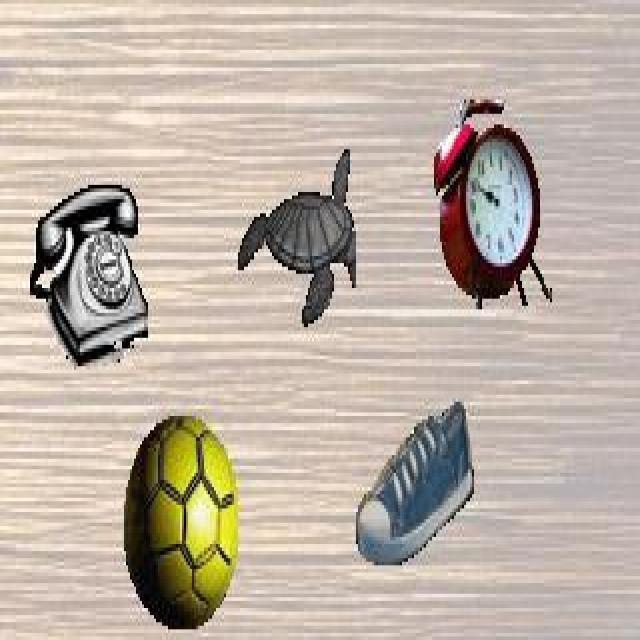Other Objects: (433, 99, 552, 310), (28, 184, 146, 362), (354, 398, 476, 566)
